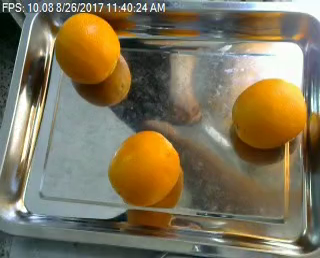Orange: (109, 131, 181, 208), (231, 78, 306, 146), (55, 12, 120, 84)
